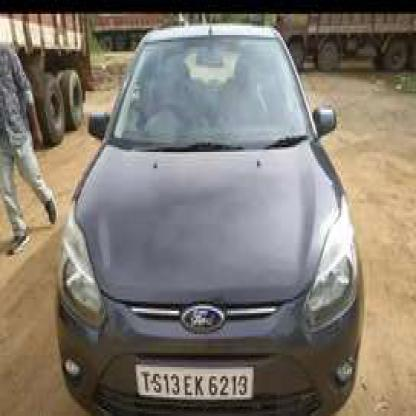license_plate: (134, 362, 250, 395)
